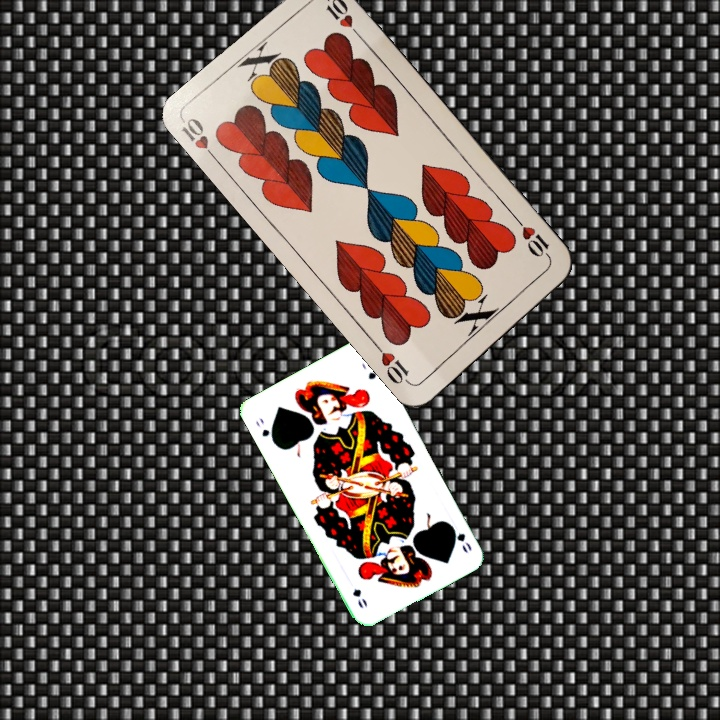GO: (445, 520, 474, 556), (251, 413, 278, 447)
H10: (176, 113, 222, 166), (512, 214, 554, 264)
